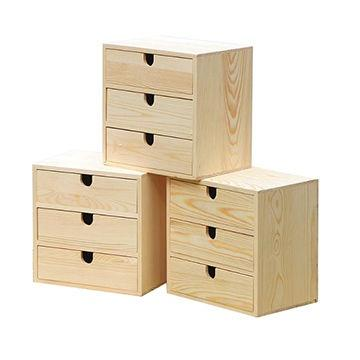cabinet_door: (36, 174, 139, 213), (39, 251, 141, 287), (37, 213, 139, 248), (107, 133, 196, 172), (168, 223, 254, 263), (107, 53, 196, 91), (107, 95, 195, 133), (168, 184, 254, 222), (168, 265, 255, 302)
handle: (81, 213, 96, 229), (204, 266, 219, 281), (81, 251, 95, 267), (80, 175, 94, 189), (144, 95, 158, 109), (144, 132, 156, 148), (207, 186, 219, 202), (208, 226, 218, 242), (145, 54, 156, 68)
